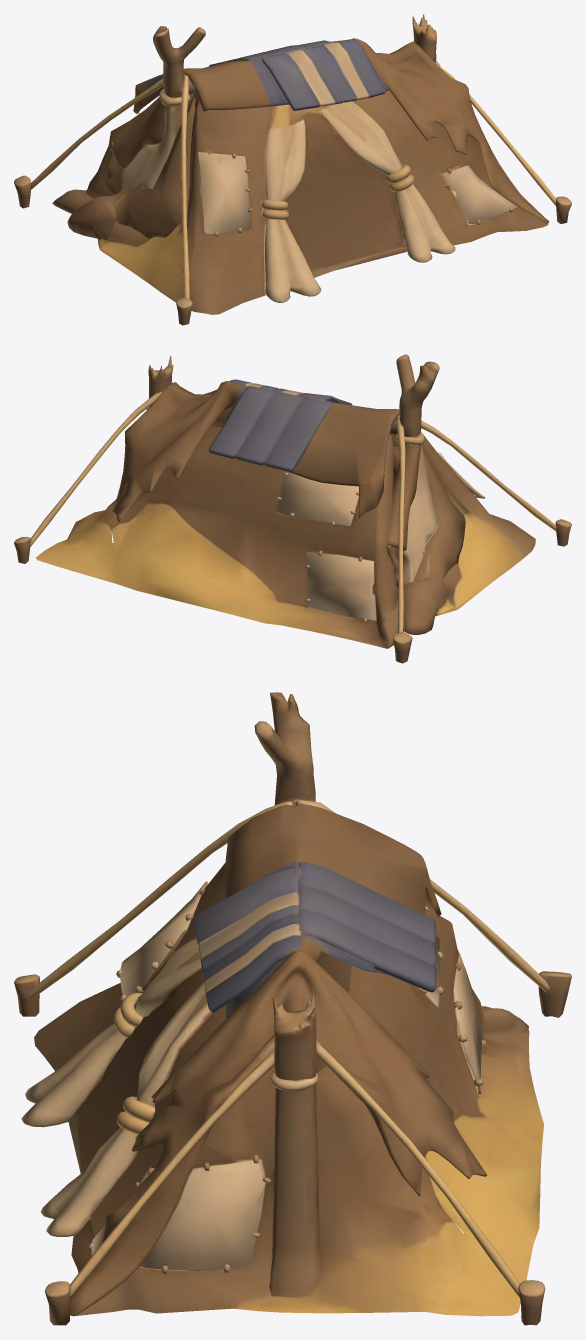
The model's file is SM_Tripo_DesertCaravanTent.glb.
The picture shows the model from 3 angles, top to bottom: view 1: azimuth 30°, elevation 25°; view 2: azimuth 150°, elevation 25°; view 3: azimuth 270°, elevation 25°; orthographic projection. The views are drawn at different scales.
Parts seen in each view (by area): view 1: SM_Tripo_DesertCaravanTent_LOD0; view 2: SM_Tripo_DesertCaravanTent_LOD0; view 3: SM_Tripo_DesertCaravanTent_LOD0.
Part boxes in pixels (x1=…): SM_Tripo_DesertCaravanTent_LOD0: x1=14, y1=14, x2=571, y2=325; SM_Tripo_DesertCaravanTent_LOD0: x1=14, y1=354, x2=571, y2=663; SM_Tripo_DesertCaravanTent_LOD0: x1=14, y1=692, x2=571, y2=1325.
Bounding box in the file's own units: 5.18 × 2.8 × 3.81.
1 material, 1 textured.
